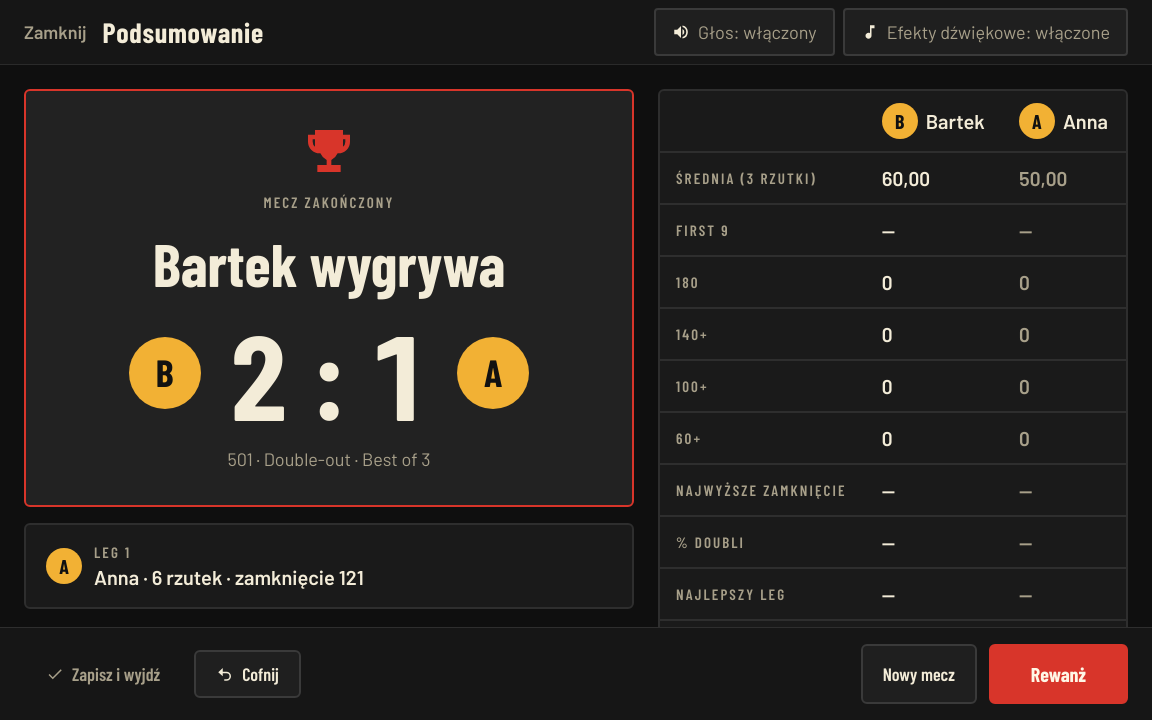
MatchEndView › shows a failed rematch, keeps the hash and enables the button again
Click the button "Rewanż".
click(1058, 674)  # box [989,644,1128,704]
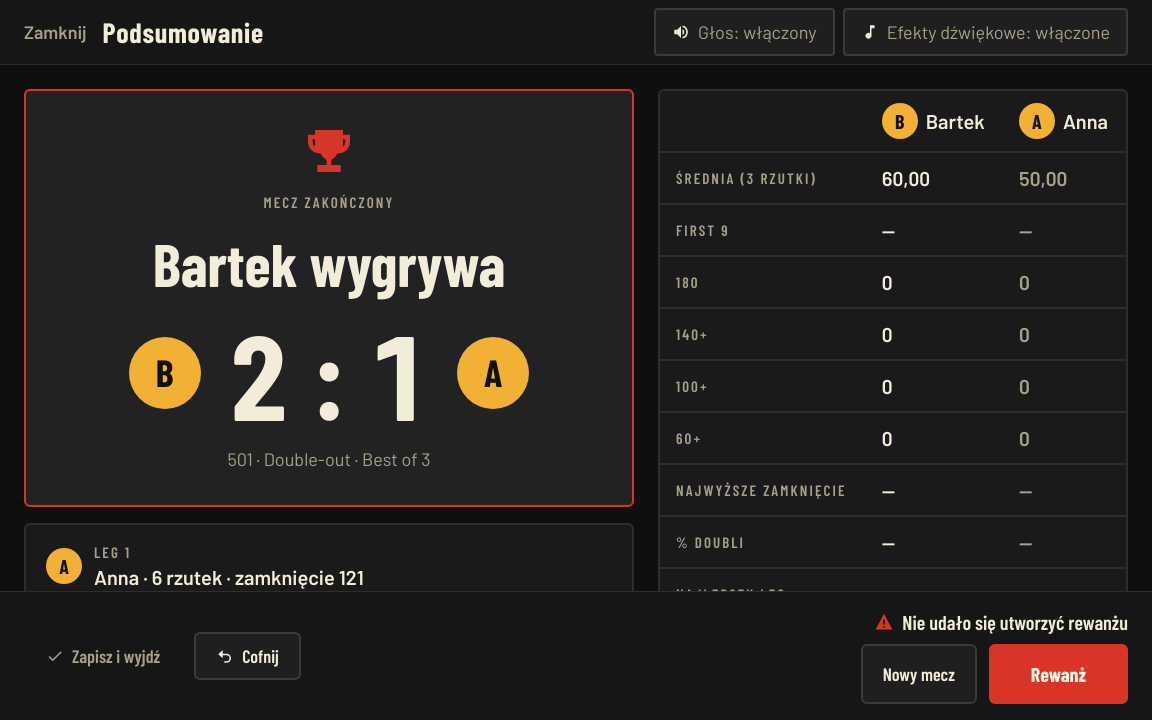
Now the message "Nie udało się utworzyć rewanżu" is shown, box [874,608,1128,636]
